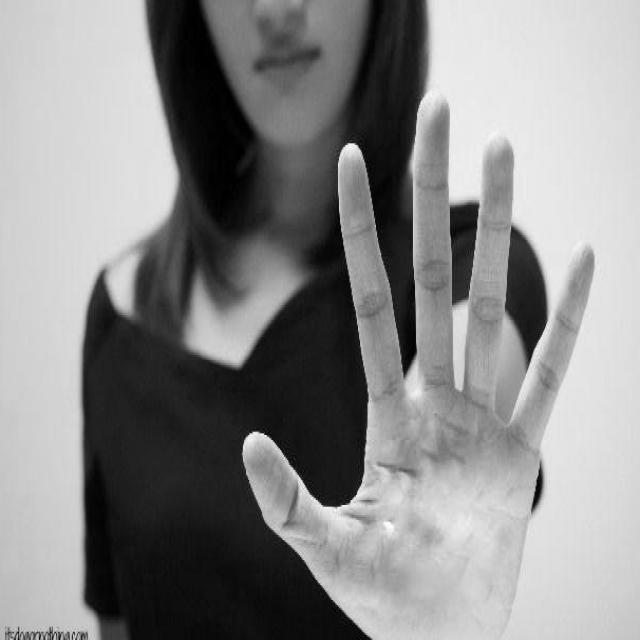stop: (239, 81, 596, 640)
